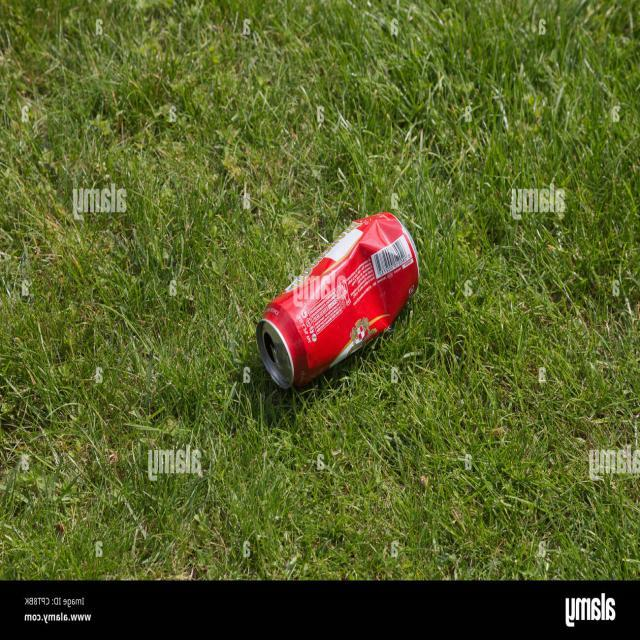can: (255, 209, 424, 402)
